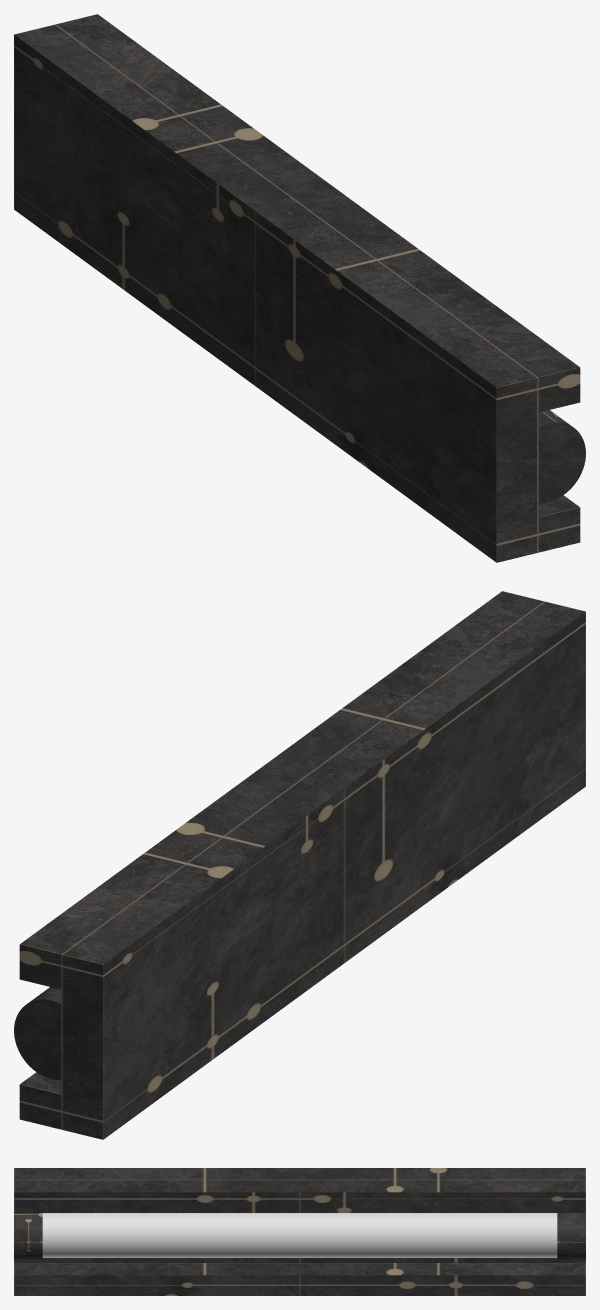
File: Lamp_Model.fbx
3 views of the same model, one above another, from view 1: azimuth 30°, elevation 25°; view 2: azimuth 150°, elevation 25°; view 3: azimuth 270°, elevation 25° (orthographic). The views are drawn at different scales.
Visible parts, largest first — view 1: Base; view 2: Base; view 3: Base, Lamp.
Boxes of the visible parts, x1,y1,x2,y2 form: Base: (14, 14, 585, 562); Base: (14, 591, 585, 1139); Base: (14, 1168, 585, 1295); Lamp: (42, 1213, 557, 1257).
Size of the model in its own units: 0.02 by 0.0107 by 0.1.
